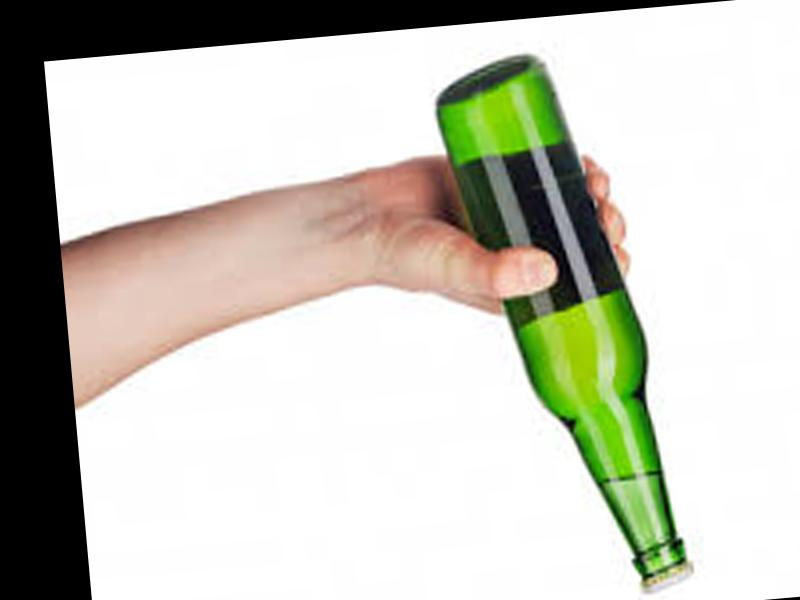Beer: (432, 43, 694, 600)
